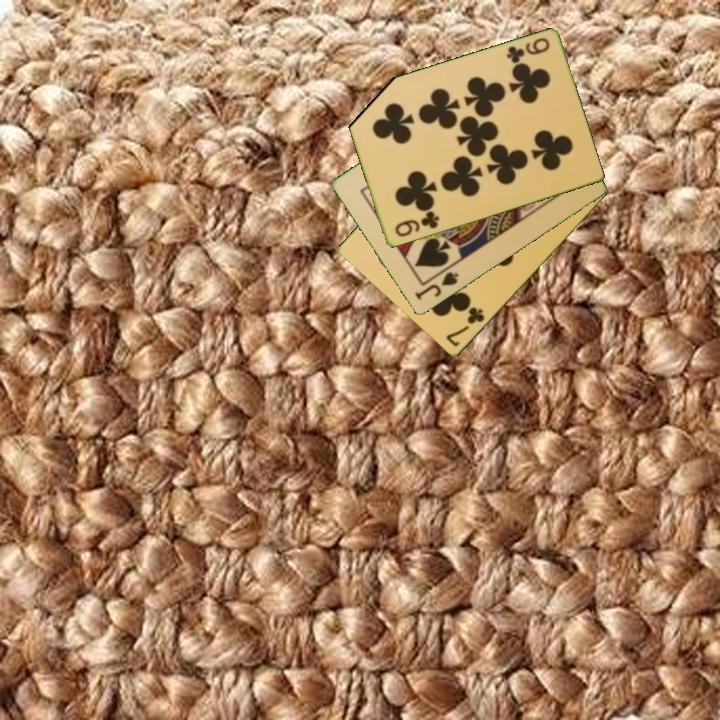7c: (442, 304, 487, 350)
9c: (391, 208, 442, 240), (503, 34, 552, 67)
Js: (411, 268, 462, 303)
